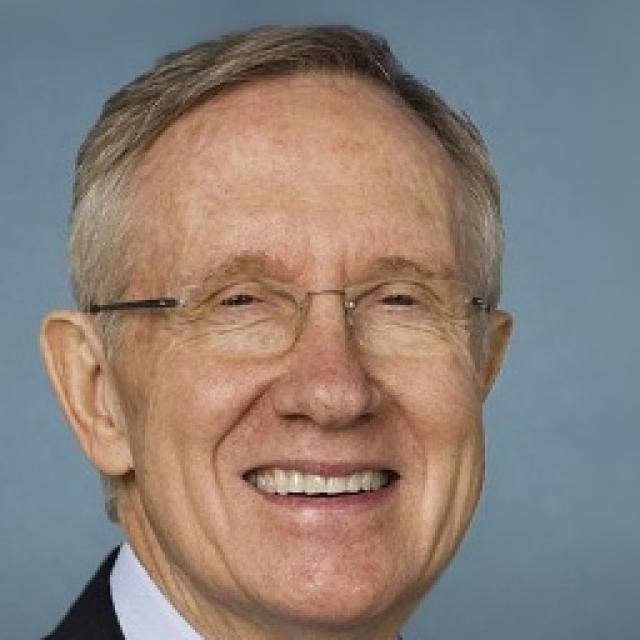glasses: (83, 275, 515, 368)
